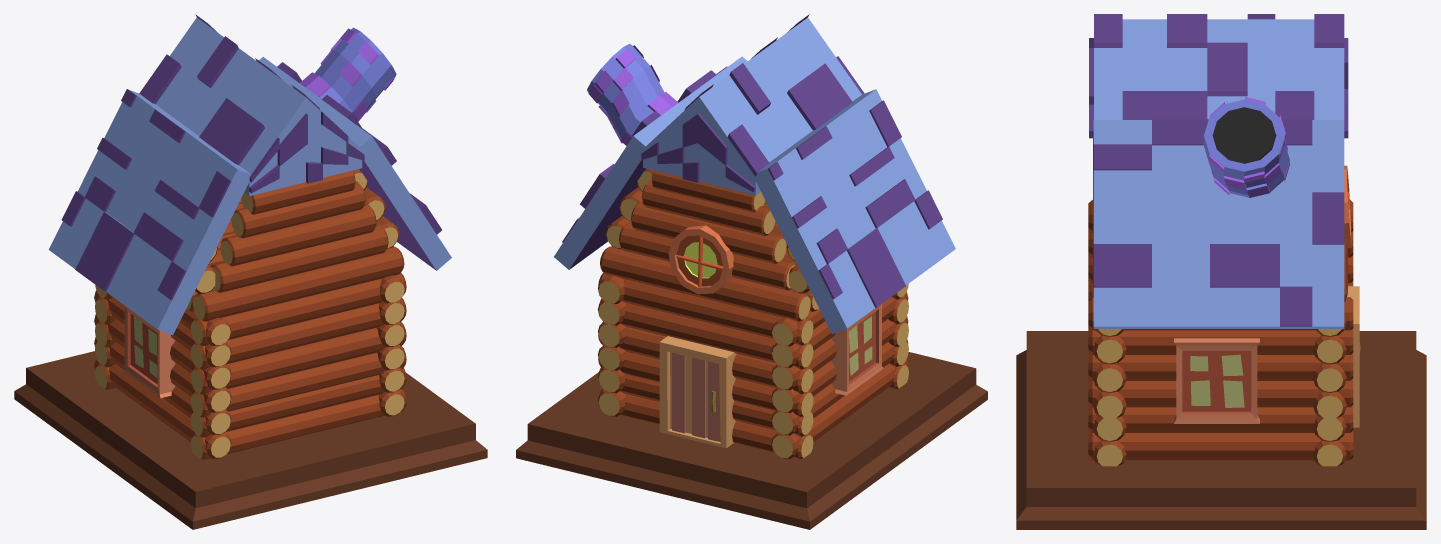
File: casa.fbx
3 renders of one model, left to right at view 1: azimuth 30°, elevation 25°; view 2: azimuth 150°, elevation 25°; view 3: azimuth 270°, elevation 25°, orthographic. The views are drawn at different scales.
Visible parts, largest first — view 1: Cube.005, Cube, Cylinder.041, Cylinder.035, Cylinder, Cylinder.001, Cylinder.011, Cube.003, Cylinder.042; view 2: Cube.005, Cube, Cylinder.035, Cylinder.042, Cylinder, Cube.001, Cylinder.001, Cylinder.011, Cylinder.050, Cube.003, Cylinder.041; view 3: Cube.005, Cube, Cylinder.011, Cube.002, Cylinder.001, Cylinder.042, Cylinder.041, Cube.001, Cylinder, Cylinder.050.
Boxes of the visible parts, left/top/right/bottom form: Cube.005: left=48, top=14, right=451, bottom=335; Cube: left=14, top=351, right=487, bottom=529; Cylinder.041: left=190, top=273, right=406, bottom=459; Cylinder.035: left=186, top=169, right=404, bottom=321; Cylinder: left=94, top=290, right=231, bottom=458; Cylinder.001: left=299, top=27, right=396, bottom=121; Cylinder.011: left=377, top=275, right=405, bottom=416; Cube.003: left=123, top=306, right=175, bottom=398; Cylinder.042: left=95, top=285, right=115, bottom=389; Cube.005: left=554, top=14, right=955, bottom=333; Cube: left=516, top=352, right=987, bottom=529; Cylinder.035: left=600, top=168, right=818, bottom=321; Cylinder.042: left=598, top=273, right=813, bottom=458; Cylinder: left=771, top=292, right=908, bottom=459; Cube.001: left=659, top=336, right=736, bottom=448; Cylinder.001: left=587, top=43, right=678, bottom=145; Cylinder.011: left=597, top=275, right=627, bottom=416; Cylinder.050: left=668, top=225, right=733, bottom=294; Cube.003: left=831, top=304, right=883, bottom=395; Cylinder.041: left=888, top=284, right=908, bottom=388; Cube.005: left=1089, top=14, right=1348, bottom=328; Cube: left=1016, top=331, right=1426, bottom=529; Cylinder.011: left=1088, top=297, right=1353, bottom=460; Cube.002: left=1174, top=338, right=1259, bottom=423; Cylinder.001: left=1203, top=97, right=1289, bottom=197; Cylinder.042: left=1313, top=314, right=1346, bottom=466; Cylinder.041: left=1093, top=294, right=1126, bottom=466; Cube.001: left=1347, top=286, right=1360, bottom=427; Cylinder: left=1088, top=200, right=1353, bottom=300; Cylinder.050: left=1344, top=165, right=1351, bottom=246.
Bounding box in the file's own units: 988 × 1177 × 1012.
